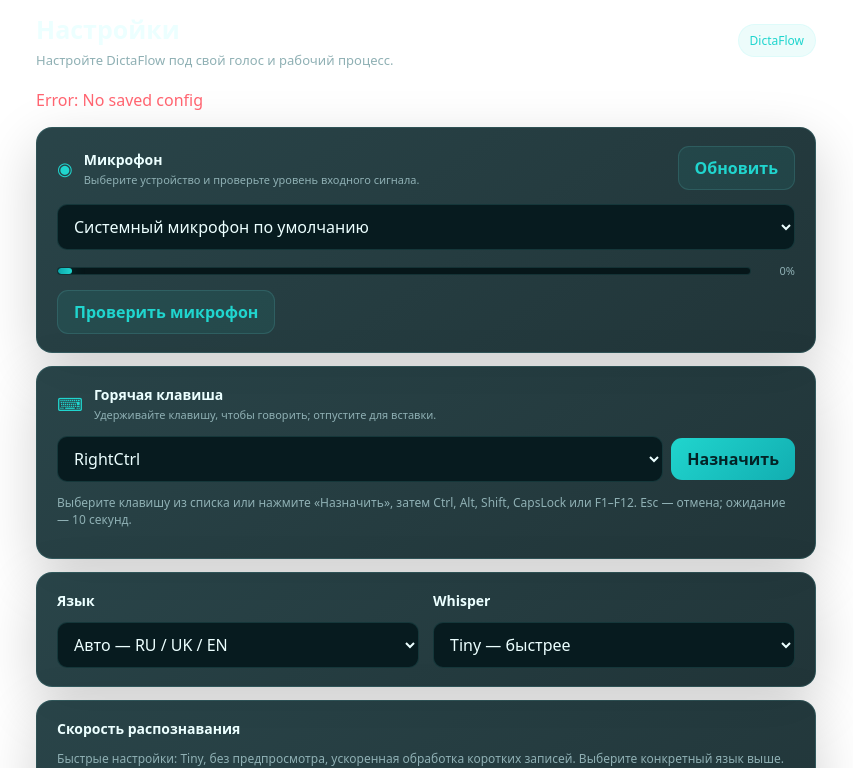
Test: hotkey settings › recovers after a capture timeout and offers a dropdown fallback
Click the button "Назначить": (733, 459) [671,438,795,480]
Wait 10000 ms
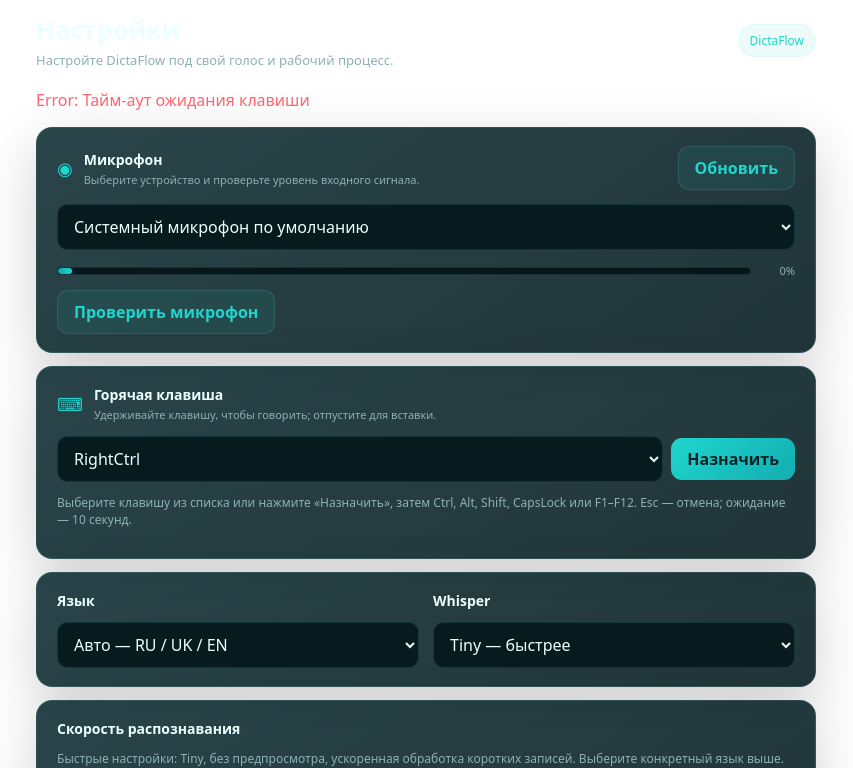
Expected: the text "Тайм-аут ожидания клавиши" is shown, [36,89,310,111]
